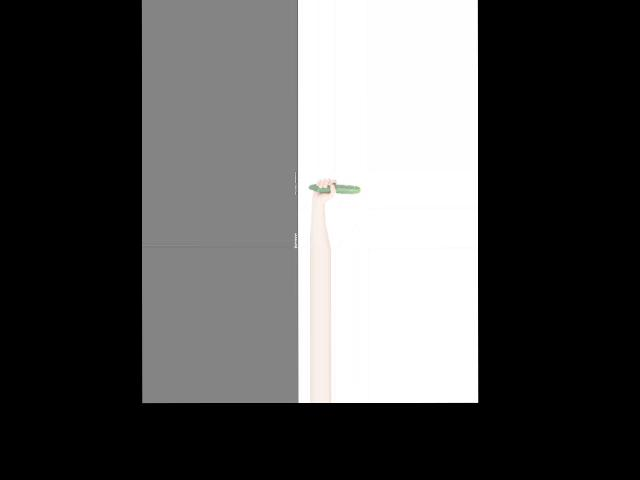cucumber: (307, 183, 360, 193)
